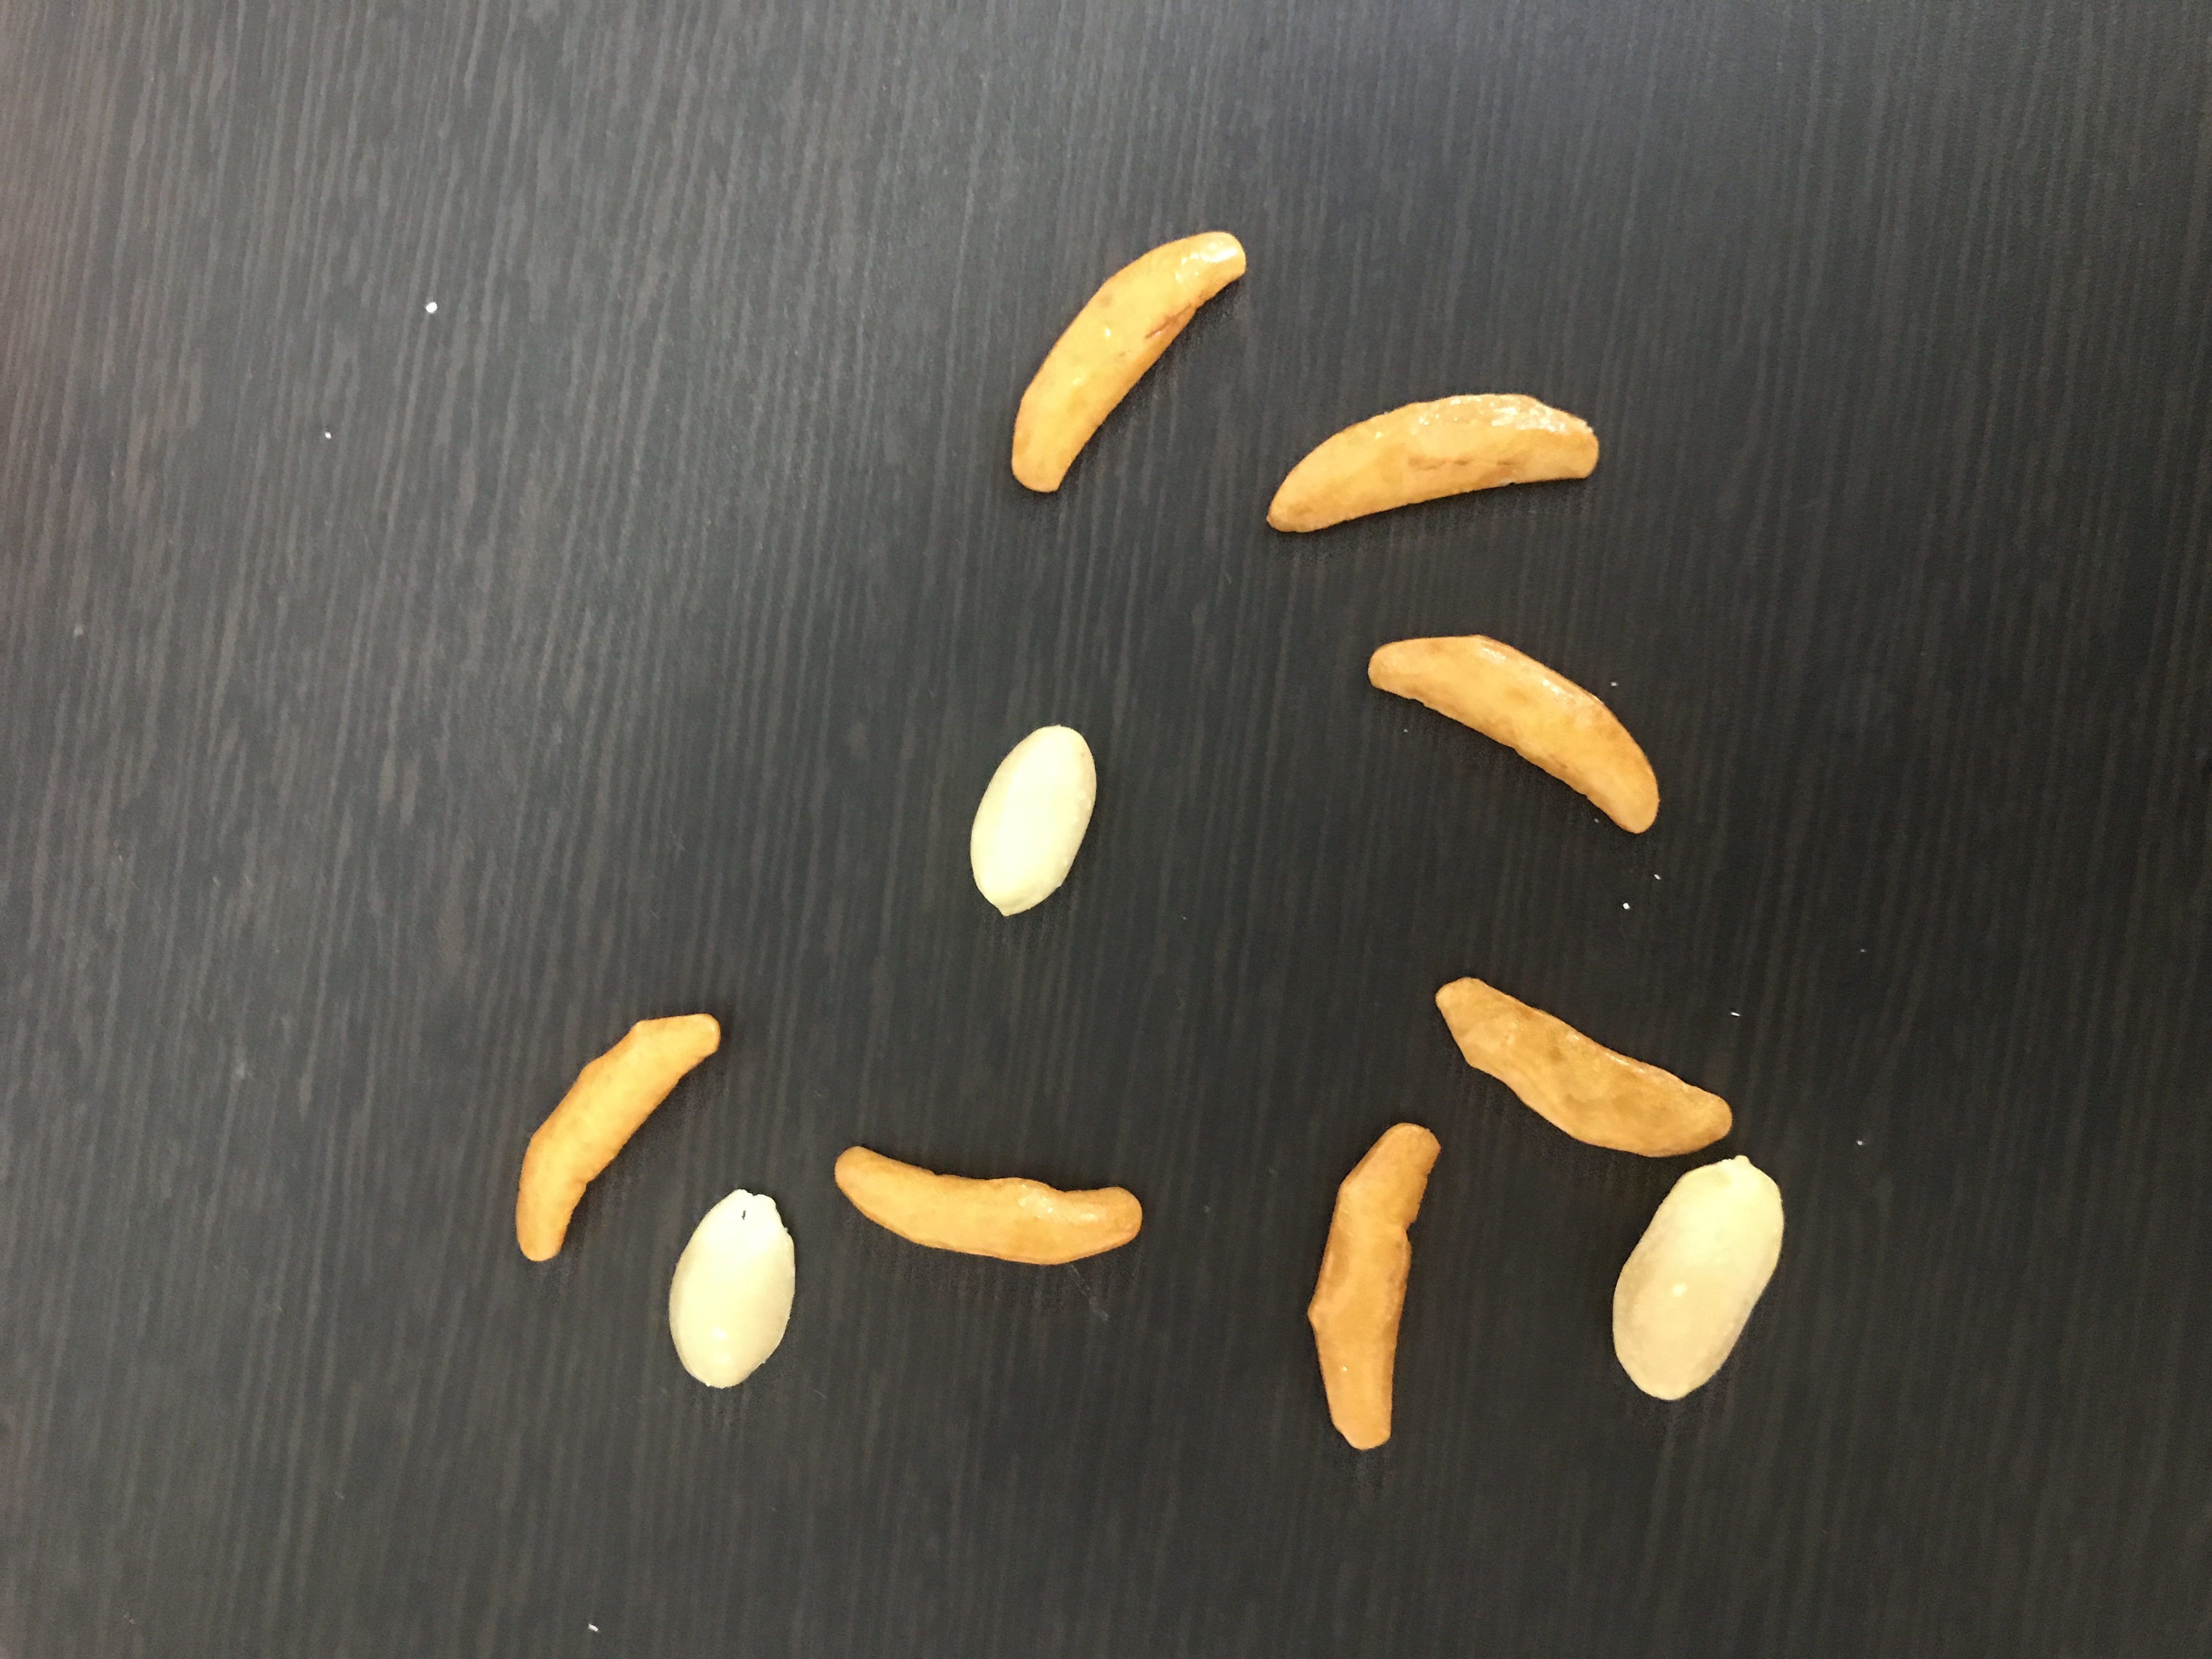peanut: (1608, 1157, 1803, 1413), (949, 706, 1120, 922), (653, 1171, 808, 1399)
